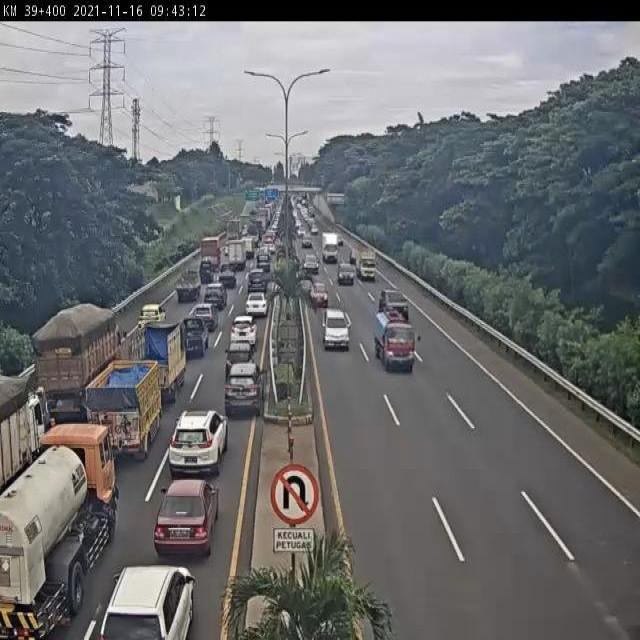car: (97, 556, 201, 640), (152, 476, 219, 560), (166, 405, 228, 472), (220, 360, 268, 421), (373, 281, 414, 323), (221, 338, 258, 382), (321, 308, 350, 355), (187, 299, 221, 332), (137, 302, 168, 334), (230, 314, 261, 346), (241, 287, 269, 316), (203, 280, 229, 308), (218, 260, 240, 291), (308, 279, 330, 309), (334, 260, 357, 285), (301, 252, 323, 276), (248, 268, 269, 291), (300, 232, 317, 252)
small truck: (372, 311, 419, 376), (177, 315, 211, 357), (355, 240, 381, 283), (320, 228, 341, 261)
truck-l-: (34, 300, 126, 423), (0, 369, 51, 491)
truck-m-: (0, 417, 124, 640), (87, 360, 163, 460), (128, 322, 193, 407), (174, 267, 200, 297)
